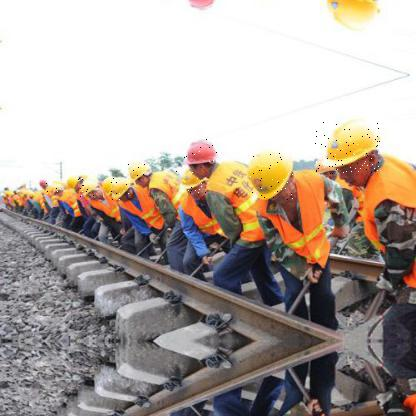safetyhelmet: (314, 122, 381, 175), (245, 151, 296, 202), (182, 139, 220, 167), (175, 171, 207, 194), (124, 160, 152, 182), (108, 178, 132, 201), (77, 176, 100, 198), (45, 179, 63, 195)
